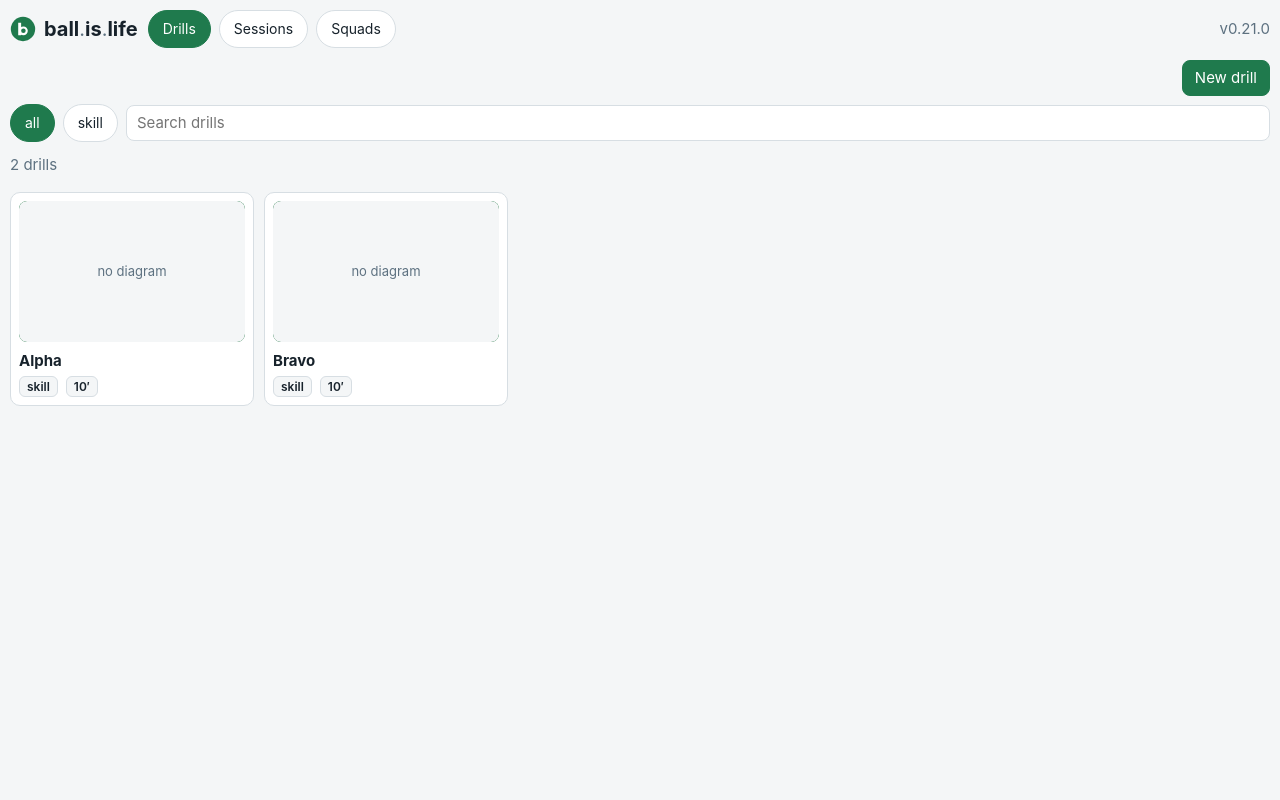
Test: App session run mode › fetches each referenced drill once, in parallel, when the run view opens
Click the button "Sessions" at (264, 29), box x1=219 y1=10 x2=308 y2=48
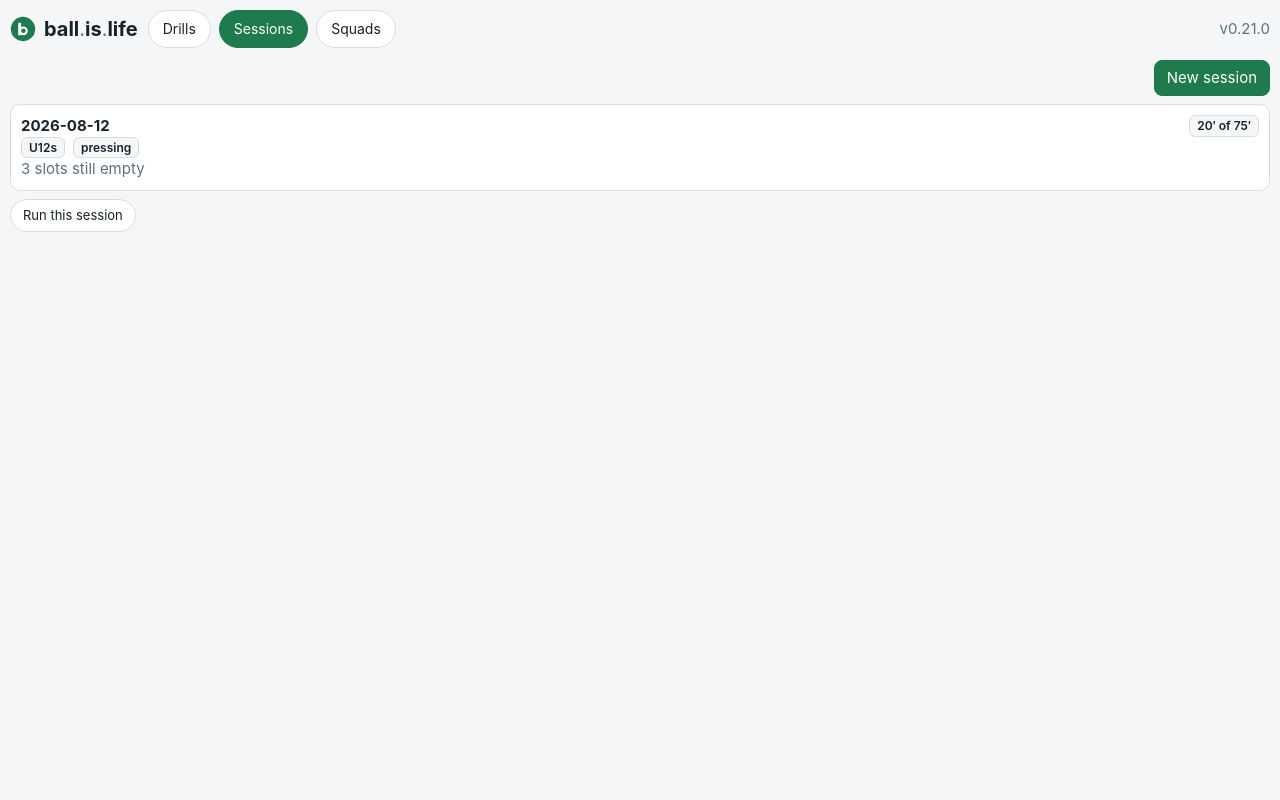
Click the button "2026-08-12 20′ of 75′ U12s pressing 3 slots still empty" at (65, 126), box x1=10 y1=104 x2=1270 y2=191
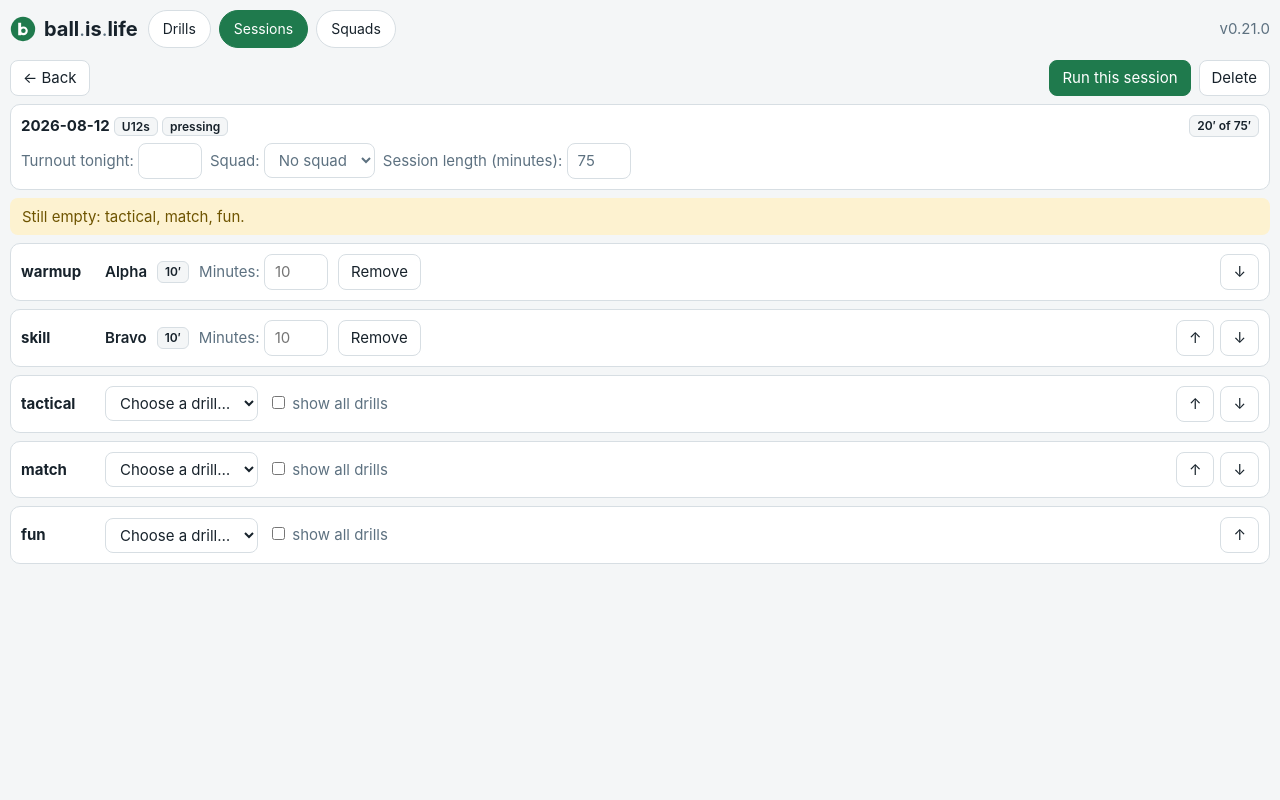
Click the button "Run this session" at (1120, 78), box x1=1049 y1=60 x2=1190 y2=96
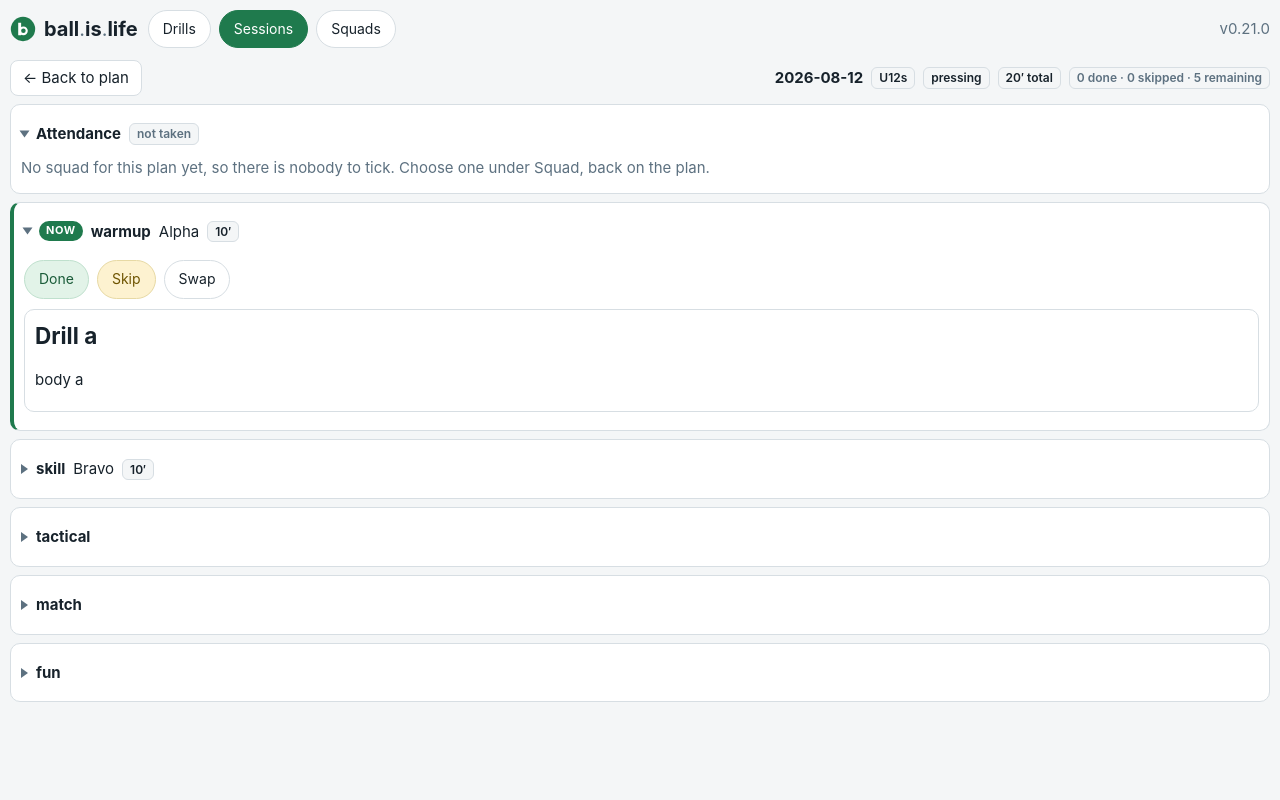
Result: the text "body a" is shown at x1=35 y1=370 x2=84 y2=389
Click the button with class "run-block-summary" showing "skill Bravo 10′" at (94, 469), box x1=21 y1=450 x2=1251 y2=488
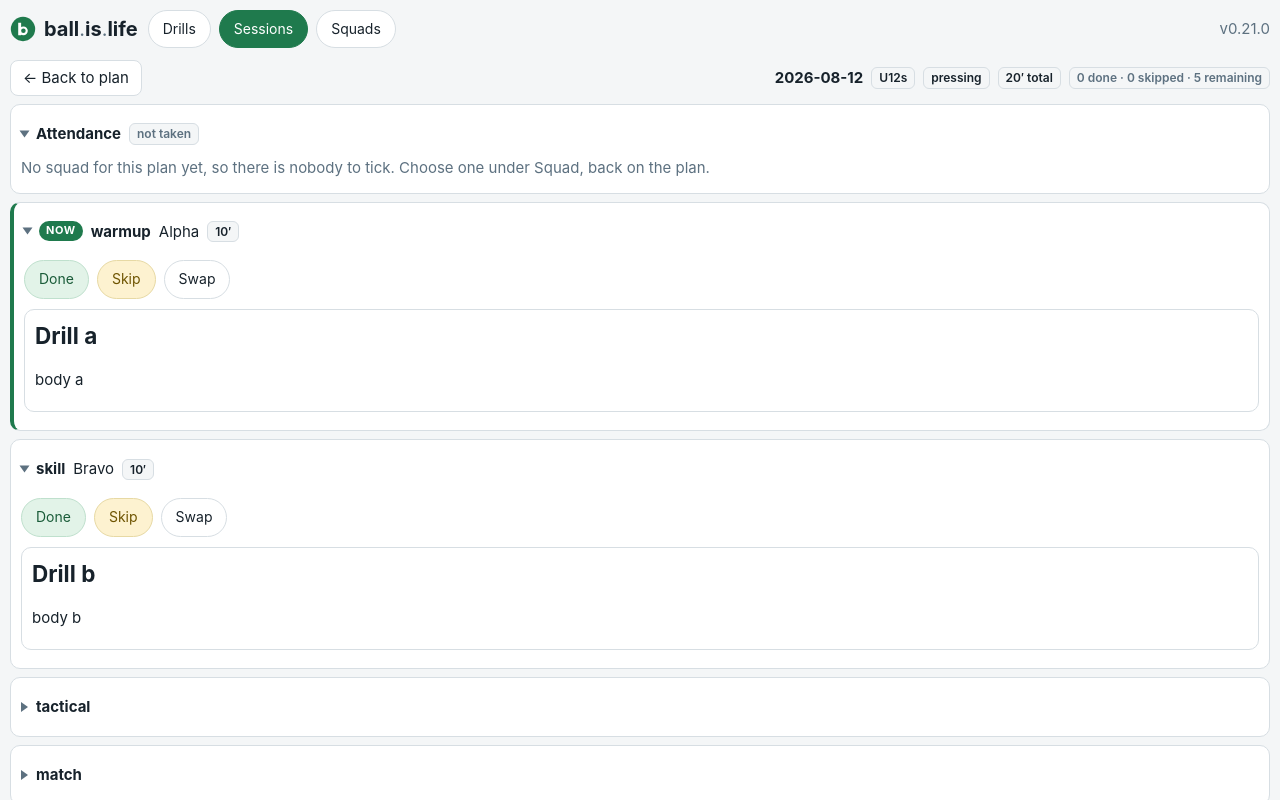
Result: the text "body b" is shown at x1=32 y1=608 x2=81 y2=627
